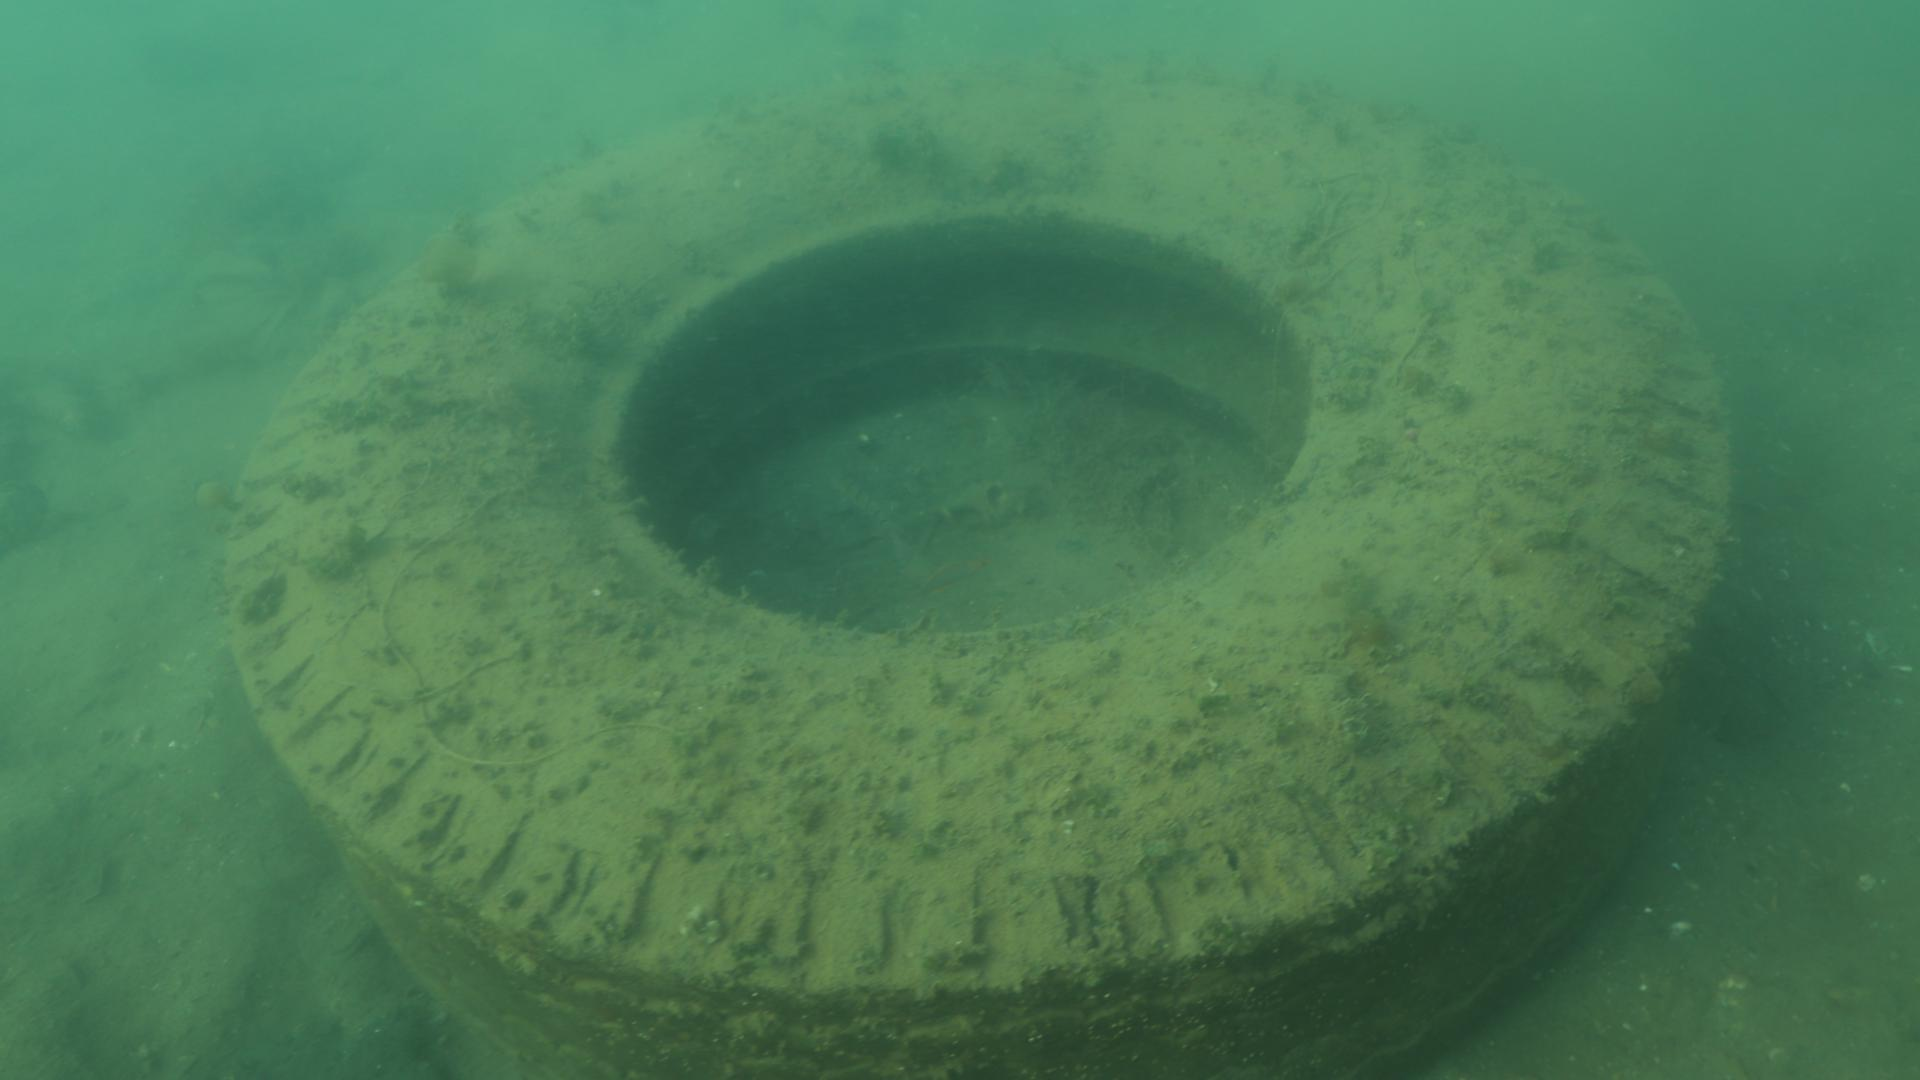tire: (220, 53, 1735, 1080)
